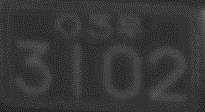0: (103, 43, 142, 99), (54, 11, 83, 39)
1: (60, 41, 94, 98)
2: (147, 44, 188, 102)
3: (13, 38, 53, 96), (87, 12, 114, 40)
루: (116, 13, 141, 38)
